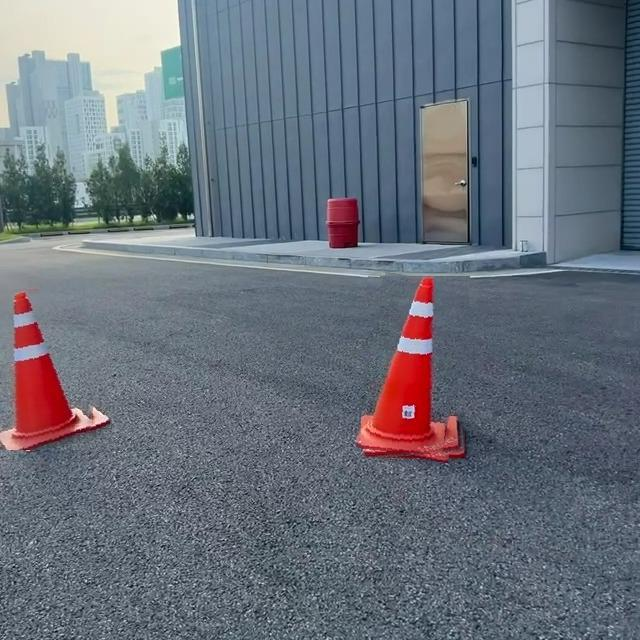fallen_object: (266, 232, 530, 505), (0, 275, 124, 452)
